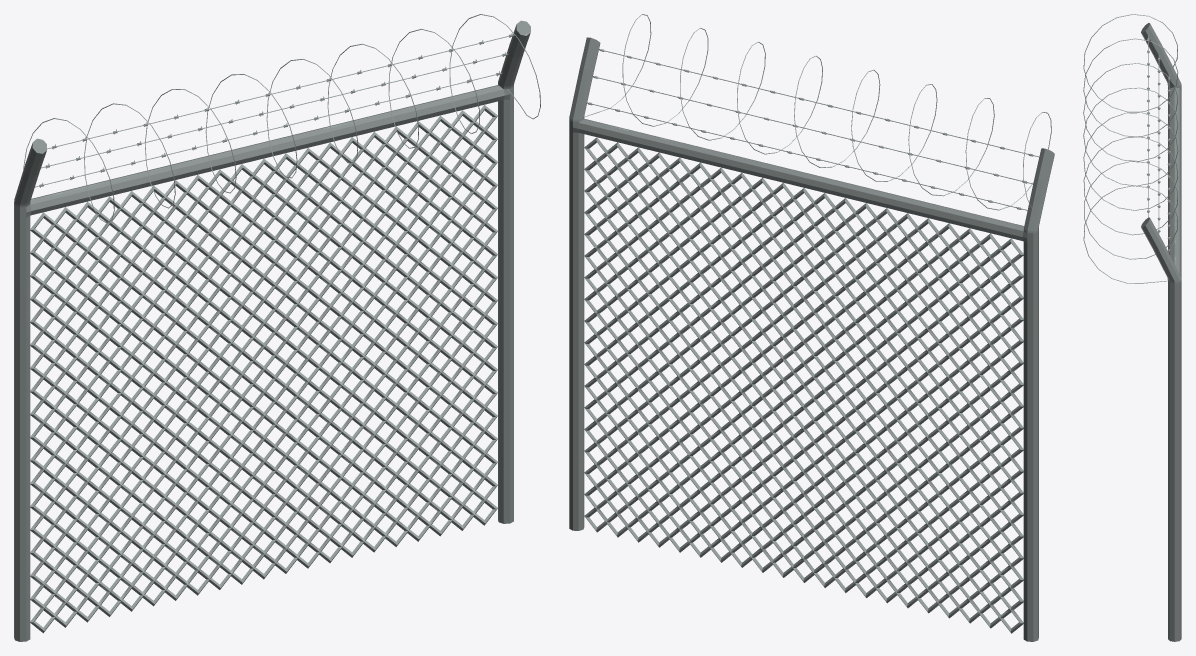
The model's file is FenceMid.fbx.
The picture shows the model from 3 angles, left to right: view 1: azimuth 30°, elevation 25°; view 2: azimuth 150°, elevation 25°; view 3: azimuth 270°, elevation 25°; orthographic projection. The views are drawn at different scales.
Visible parts, largest first — view 1: polySurface457; view 2: polySurface457; view 3: polySurface457.
Boxes of the visible parts, <box> form: polySurface457: <box>14,14,540,641</box>; polySurface457: <box>569,14,1054,641</box>; polySurface457: <box>1083,14,1181,641</box>.
Bounding box in the file's own units: 17.64 × 17.99 × 3.66.
1 material, 1 textured.
